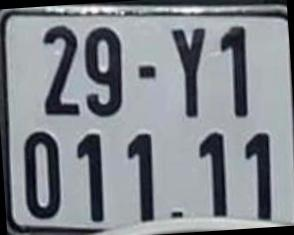-: (139, 66, 156, 79)
.: (172, 212, 180, 218)
0: (23, 131, 61, 218)
1: (220, 27, 249, 118), (128, 133, 156, 223), (245, 133, 273, 221), (77, 134, 104, 223), (200, 133, 227, 219)
2: (42, 27, 79, 115)
9: (86, 27, 123, 116)
Y: (173, 28, 205, 117)
